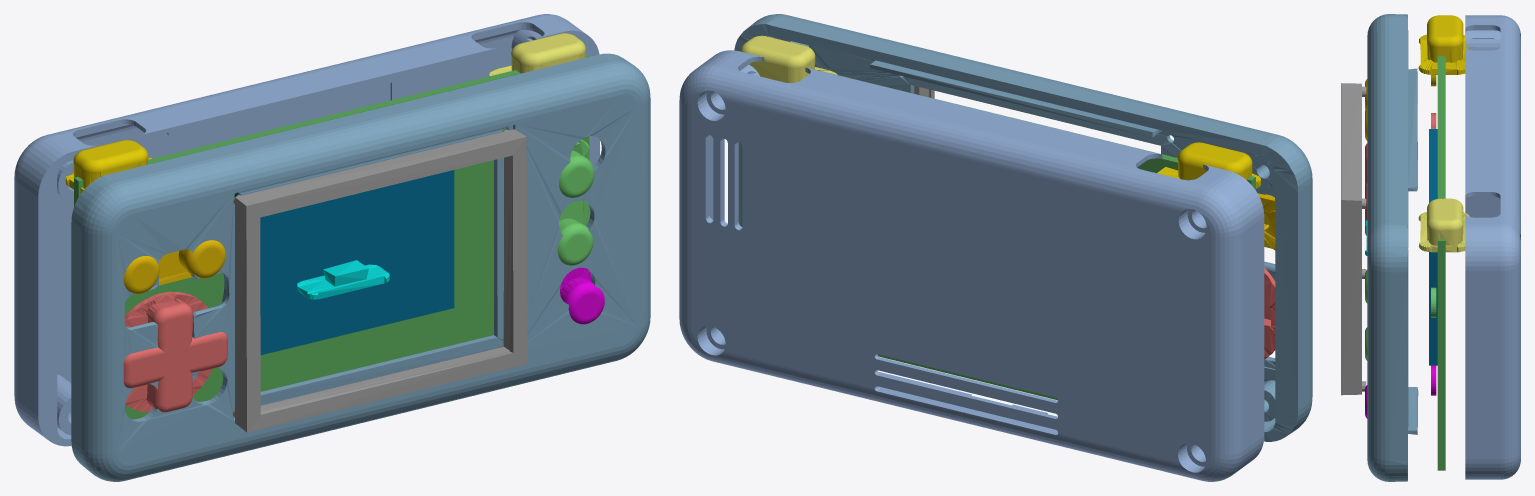
File: assembly_colored.glb
3 renders of one model, left to right at view 1: azimuth 30°, elevation 25°; view 2: azimuth 150°, elevation 25°; view 3: azimuth 270°, elevation 25°, orthographic. The views are drawn at different scales.
Parts seen in each view (by area): view 1: top_cover, back_cover, lcd, frame, pcb_base, d_Pad, A_B, start_select, L, R, power, menu; view 2: back_cover, top_cover, R, L, pcb_base, d_Pad, start_select; view 3: back_cover, top_cover, frame, pcb_base, L, R, lcd, d_Pad.
Boxes of the visible parts, x1=… form: top_cover: x1=71, y1=53, x2=650, y2=481; back_cover: x1=14, y1=14, x2=599, y2=446; lcd: x1=234, y1=170, x2=454, y2=355; frame: x1=233, y1=129, x2=527, y2=432; pcb_base: x1=74, y1=54, x2=589, y2=419; d_Pad: x1=123, y1=291, x2=227, y2=412; A_B: x1=557, y1=139, x2=594, y2=265; start_select: x1=123, y1=240, x2=225, y2=294; L: x1=65, y1=140, x2=151, y2=193; R: x1=489, y1=33, x2=585, y2=76; power: x1=297, y1=260, x2=389, y2=299; menu: x1=560, y1=267, x2=604, y2=324; back_cover: x1=679, y1=50, x2=1264, y2=481; top_cover: x1=734, y1=14, x2=1312, y2=441; R: x1=740, y1=35, x2=837, y2=82; L: x1=1157, y1=142, x2=1260, y2=188; pcb_base: x1=741, y1=69, x2=1255, y2=400; d_Pad: x1=1264, y1=267, x2=1275, y2=359; start_select: x1=1258, y1=193, x2=1275, y2=250; back_cover: x1=1465, y1=15, x2=1520, y2=479; top_cover: x1=1367, y1=14, x2=1418, y2=481; frame: x1=1341, y1=83, x2=1366, y2=395; pcb_base: x1=1437, y1=56, x2=1445, y2=470; L: x1=1418, y1=15, x2=1468, y2=74; R: x1=1418, y1=198, x2=1469, y2=252; lcd: x1=1429, y1=129, x2=1437, y2=365; d_Pad: x1=1365, y1=143, x2=1367, y2=235.
Size of the model in its own units: 111 by 55.98 by 35.54.
